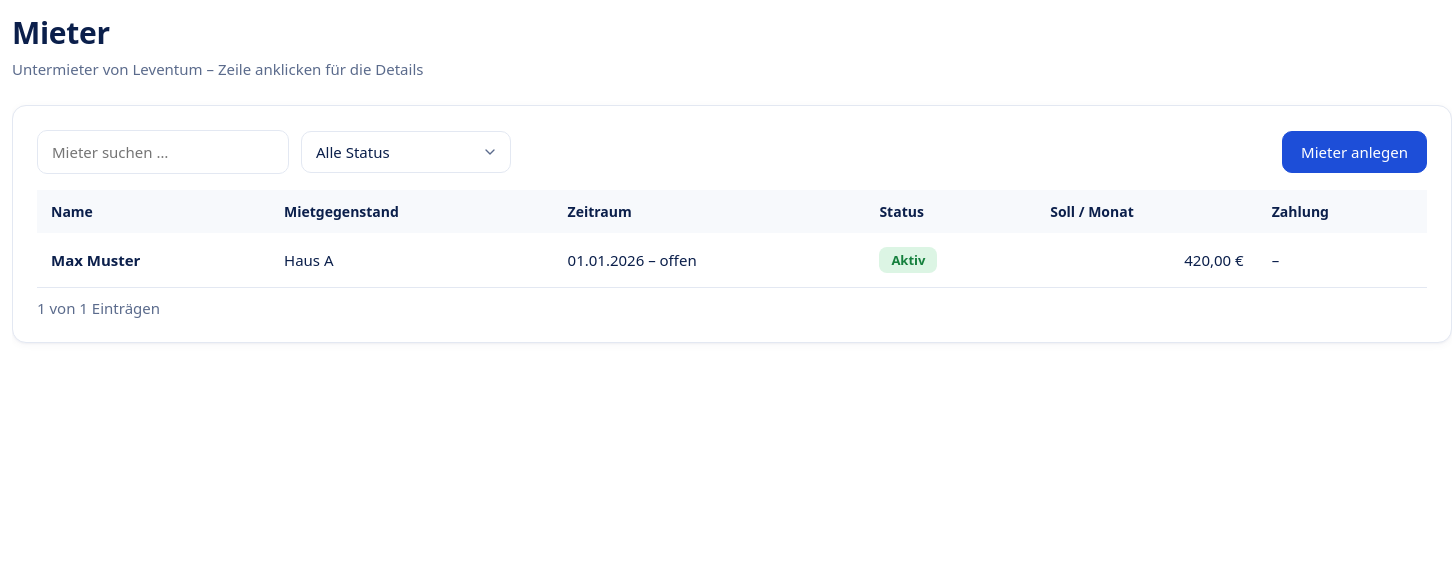
Test: Mieterliste und Panel ohne Finanzrecht › Panel ohne 'finance'-Block: kein Absturz, keine Finanzabschnitte, keine Kaution
Click the text "Max Muster" at (96, 260), box left=51, top=250, right=140, bottom=270
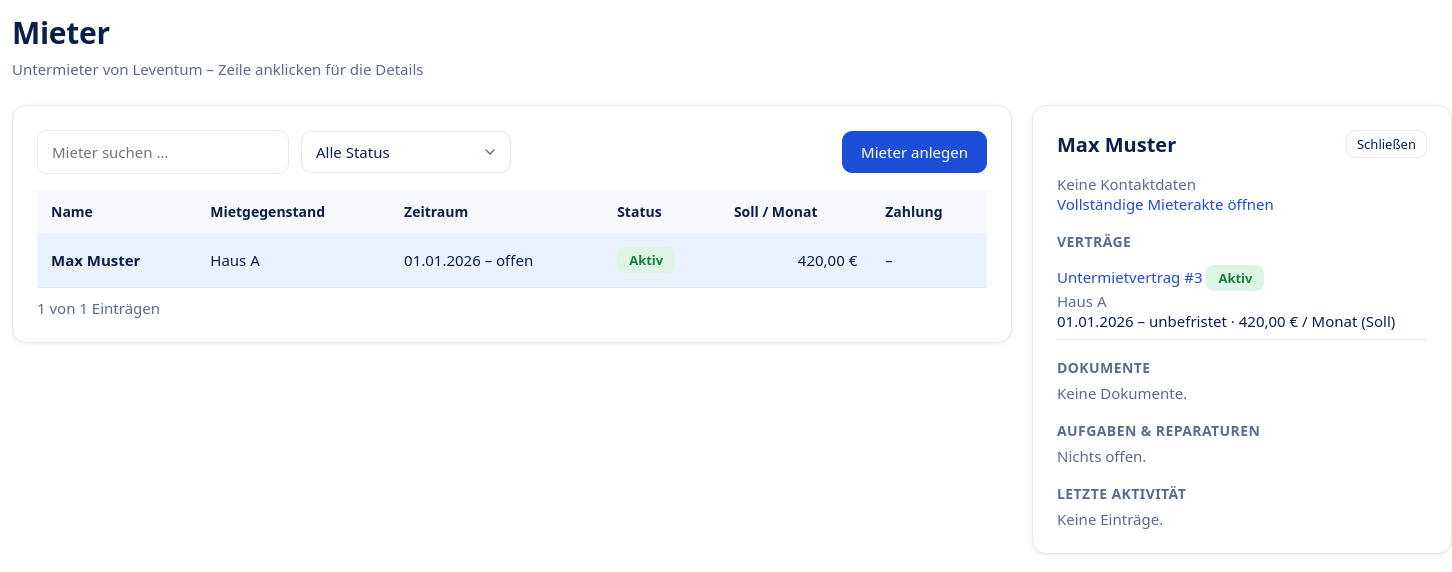
Expected: the heading "Dokumente" is shown, left=1057, top=358, right=1150, bottom=377
Expected: the link "Untermietvertrag #3" is shown, left=1057, top=267, right=1202, bottom=287
